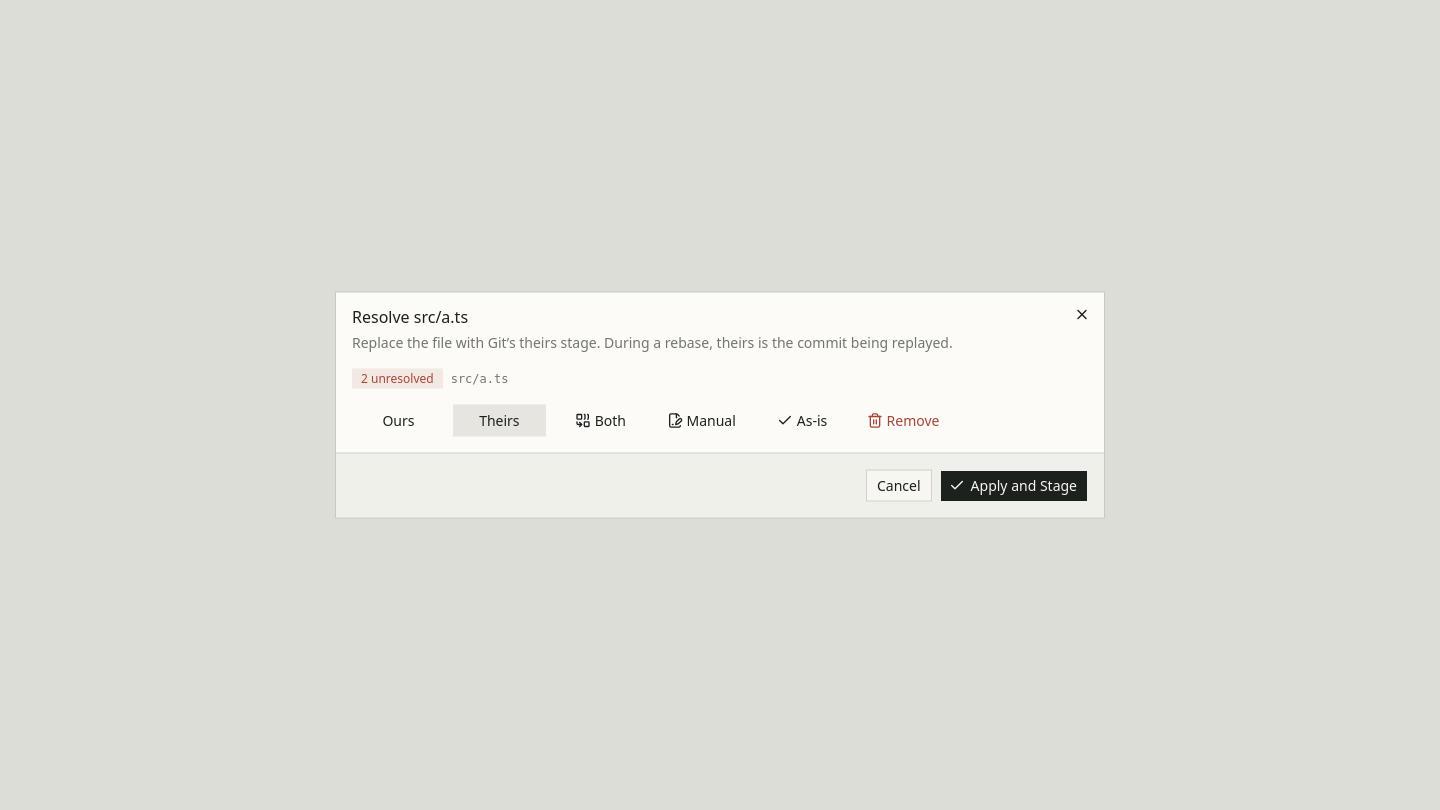
Test: ConflictResolutionDialog › surfaces resolveConflict failures and leaves the dialog open
What coordinates should you click on to do the following:
click the button "Apply and Stage"
I would click on:
 (1014, 486)
Its box is top-left (940, 470), bottom-right (1088, 502).
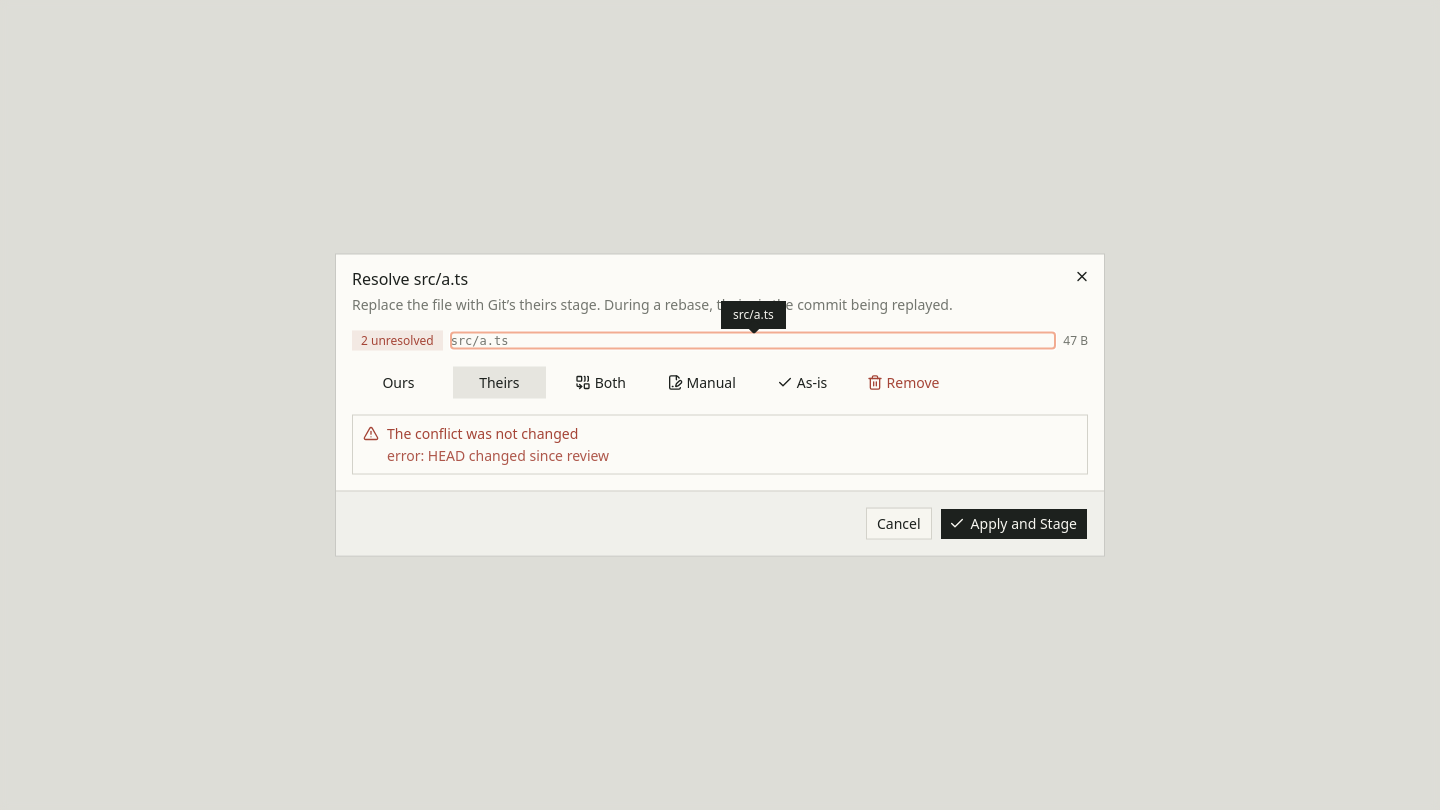
Expected: the button "Apply and Stage" is enabled, top-left (940, 508), bottom-right (1088, 540)
Result: the message shows "The conflict was not changed" at top-left (387, 424), bottom-right (578, 442)
Result: the message shows "error: HEAD changed since review" at top-left (387, 446), bottom-right (609, 464)
